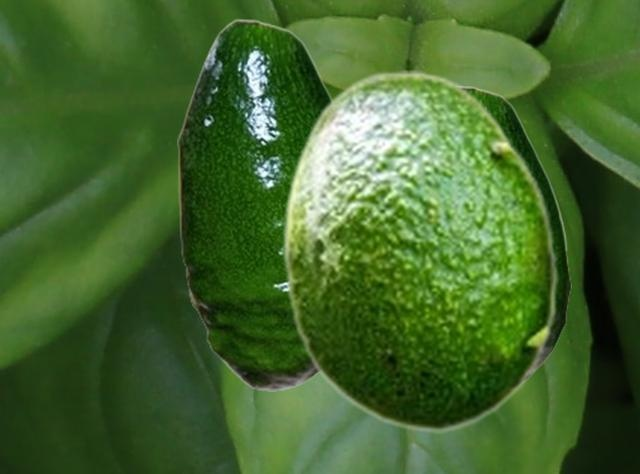avocado: (280, 70, 558, 432), (177, 18, 333, 390), (464, 85, 570, 381)
